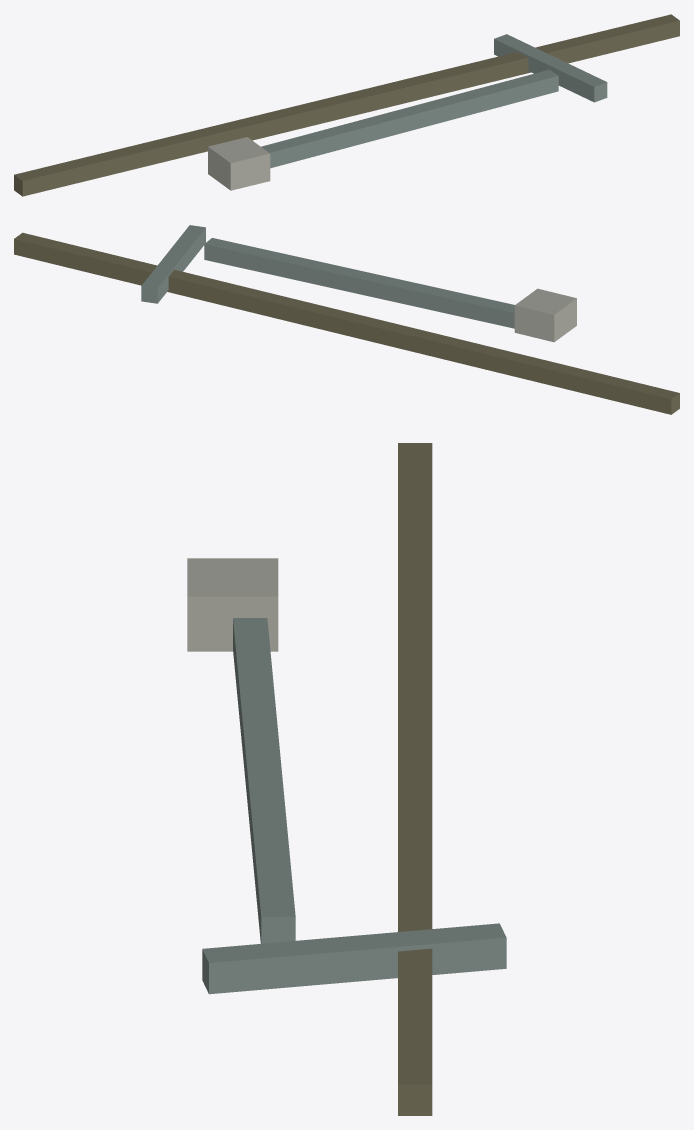
The model's file is SM_CatenariaCaida_v3_Caido_LOD1.fbx.
3 views of the same model, one above another, from view 1: azimuth 30°, elevation 25°; view 2: azimuth 150°, elevation 25°; view 3: azimuth 270°, elevation 25° (orthographic). The views are drawn at different scales.
Visible parts, largest first — view 1: SM_aqui_paso_algo_v13_LOD1; view 2: SM_aqui_paso_algo_v13_LOD1; view 3: SM_aqui_paso_algo_v13_LOD1.
Part boxes in pixels (x1=…): SM_aqui_paso_algo_v13_LOD1: x1=14, y1=14, x2=679, y2=196; SM_aqui_paso_algo_v13_LOD1: x1=14, y1=225, x2=679, y2=414; SM_aqui_paso_algo_v13_LOD1: x1=187, y1=443, x2=506, y2=1115.
Bounding box in the file's own units: 15 × 0.74 × 3.15.
